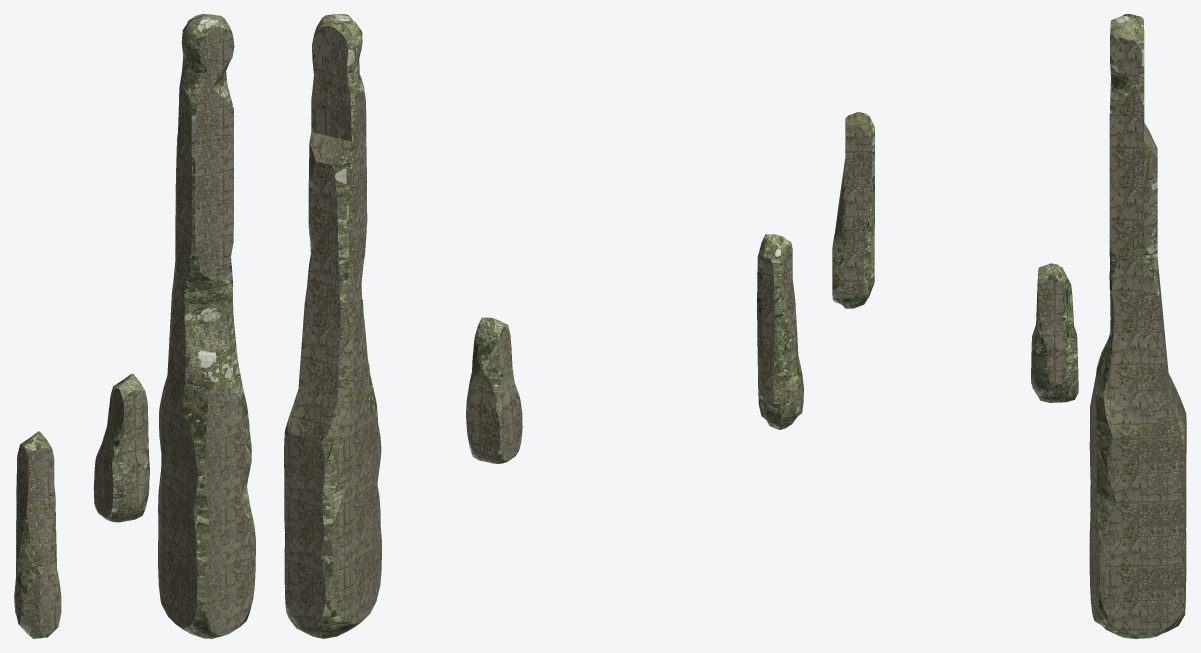
File: SM_Chateaux_04_03.fbx
3 views of the same model, side by side, from view 1: azimuth 30°, elevation 25°; view 2: azimuth 150°, elevation 25°; view 3: azimuth 270°, elevation 25° (orthographic).
Visible parts, largest first — view 1: SM_Chateaux_04_03; view 2: SM_Chateaux_04_03; view 3: SM_Chateaux_04_03.
Part boxes in pixels (<box>): SM_Chateaux_04_03: <box>14,14,255,638</box>; SM_Chateaux_04_03: <box>284,14,803,638</box>; SM_Chateaux_04_03: <box>832,14,1186,638</box>.
Bounding box in the file's own units: 2360 × 3825 × 2011.
